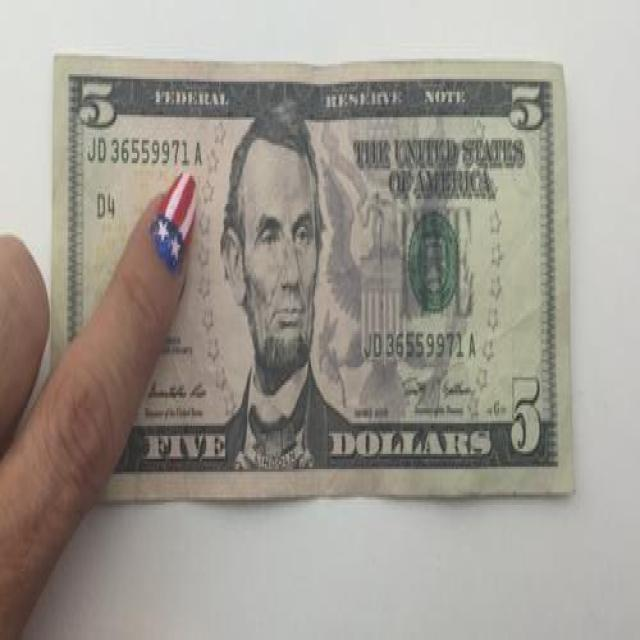5-Front: (50, 53, 576, 500)
